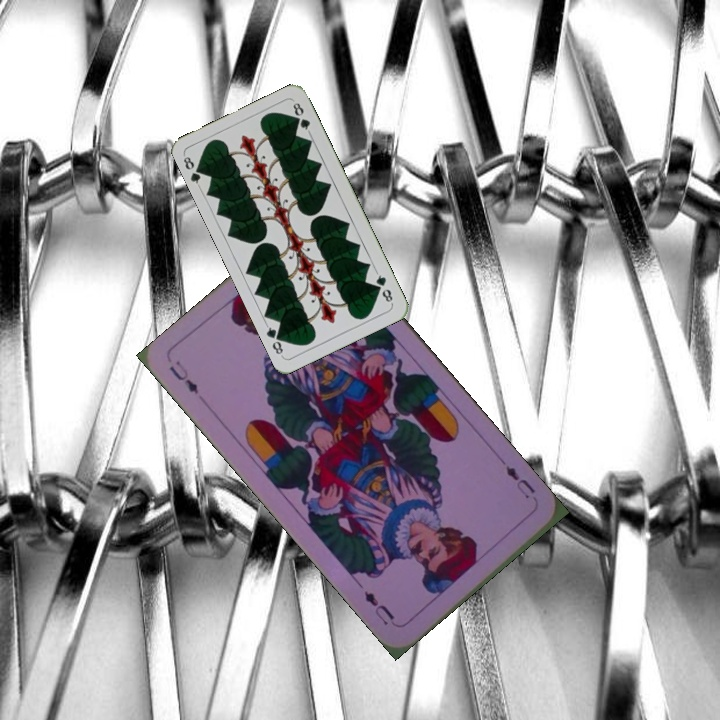EU: (165, 356, 202, 397), (501, 462, 538, 501)
G8: (179, 151, 207, 190), (372, 268, 395, 306)
